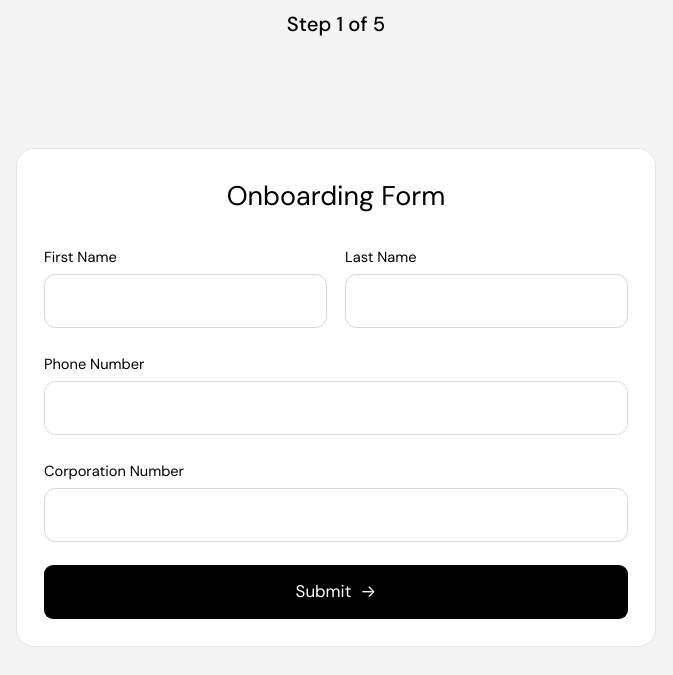
Test: OnboardingPage › shows required errors on blur for empty names
The image size is (673, 675).
Click the field labelled "First Name" at (186, 301), box left=44, top=274, right=327, bottom=328
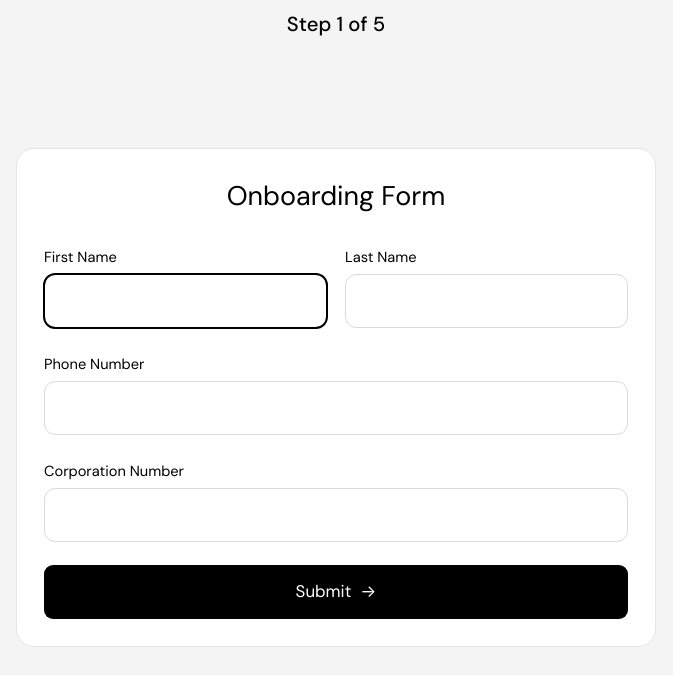
Press Tab
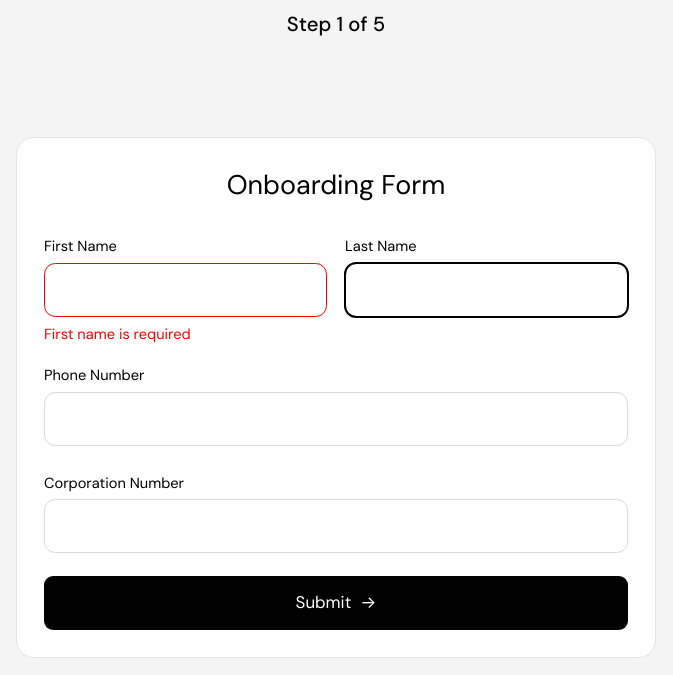
Press Tab
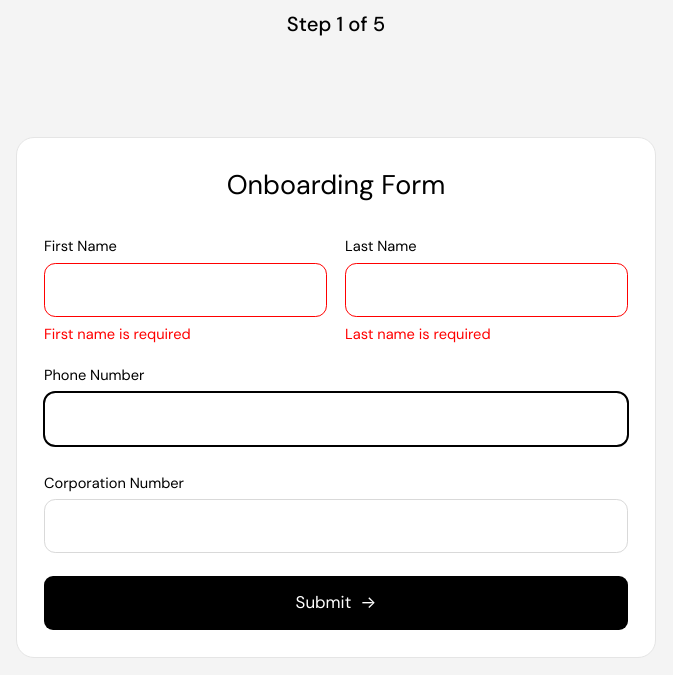
Result: the message "First name is required" is shown at left=44, top=324, right=191, bottom=344
Result: the message "Last name is required" is shown at left=345, top=324, right=491, bottom=344
